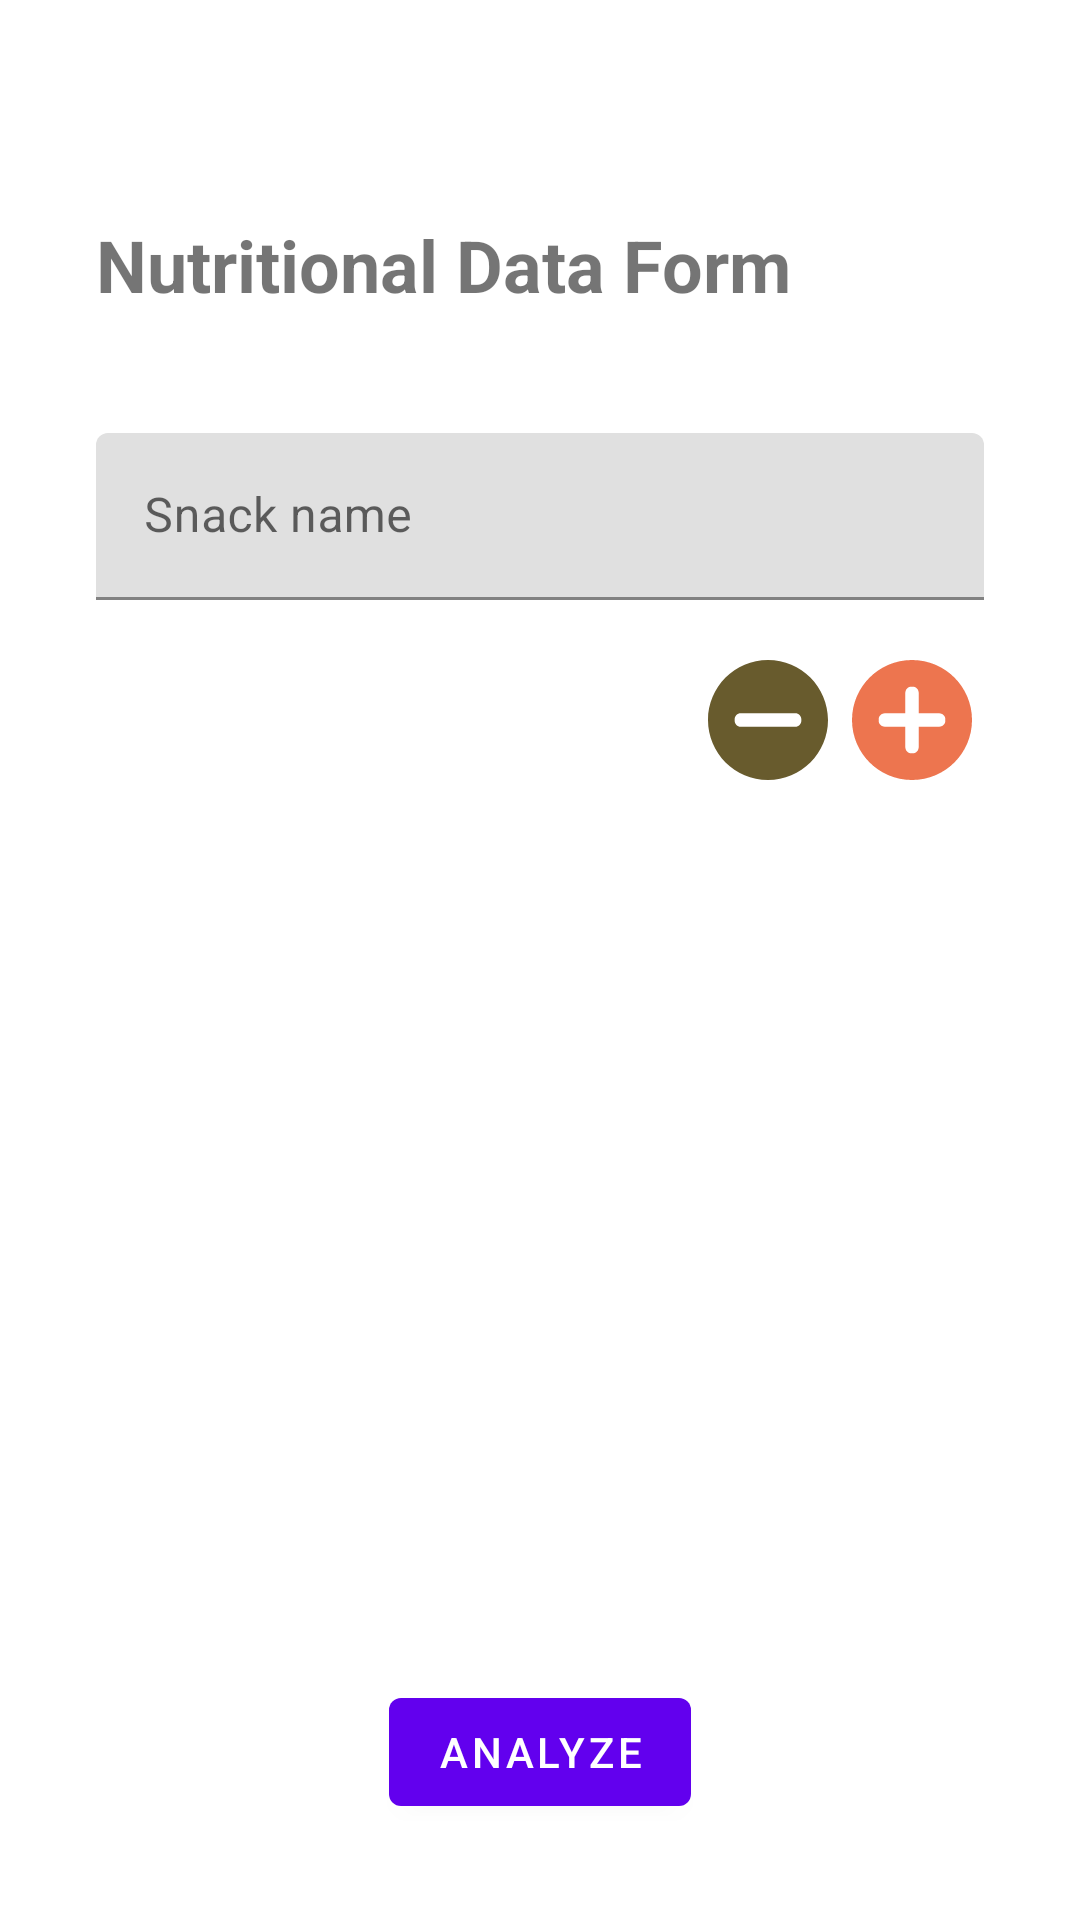

Locate icon controls on the screen. Image size 1080w x 1920h, boxes as (x1, y1, x2, y2).
plus: (852, 660, 972, 780)
